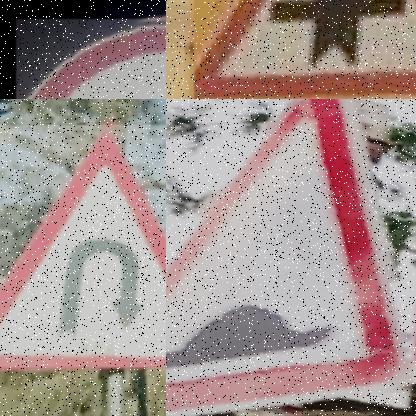Cross Roads: (194, 0, 416, 99)
Road Divides: (38, 19, 166, 99)
Speed Breaker Ahead: (166, 99, 416, 416)
U-Turn: (0, 125, 166, 367)
